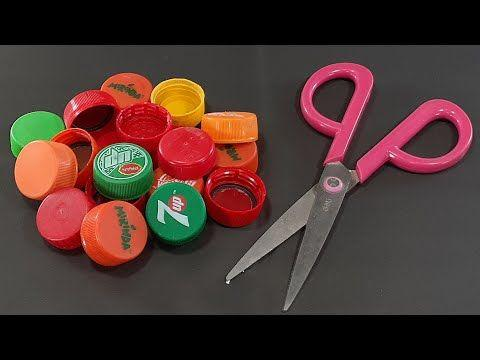HDPE: (79, 198, 150, 270), (34, 186, 98, 253), (146, 181, 210, 247), (12, 139, 79, 202), (203, 167, 269, 228), (91, 141, 152, 199), (157, 124, 217, 178), (150, 77, 208, 127), (66, 89, 122, 138), (11, 110, 66, 154), (100, 72, 154, 115), (200, 111, 262, 145), (213, 140, 260, 175)
